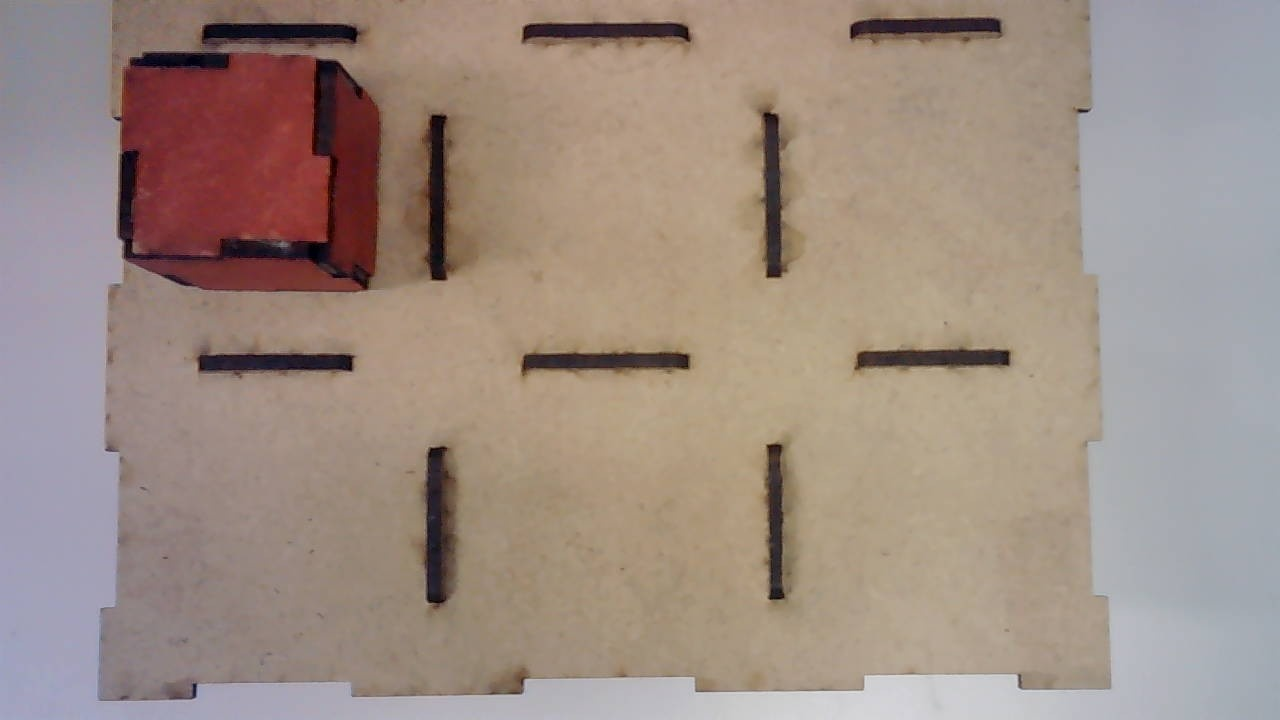red box: (115, 50, 381, 297)
